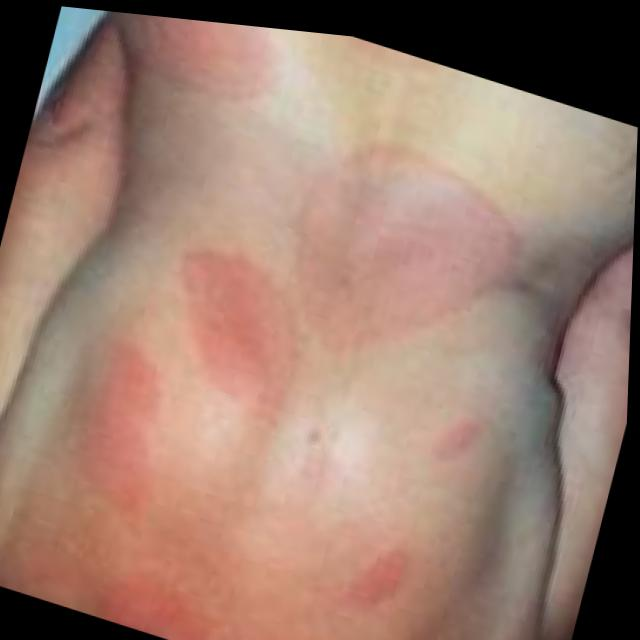Erythema migrans: (265, 90, 576, 382), (41, 310, 222, 527), (330, 492, 425, 613)
